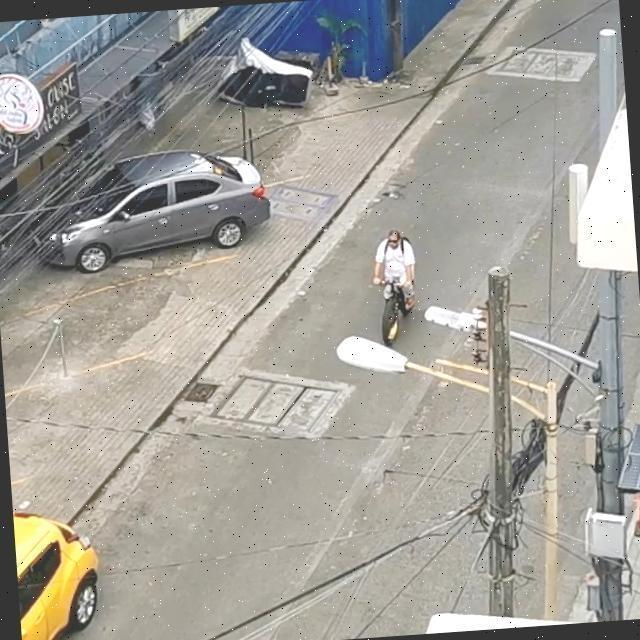Bike: (325, 204, 449, 356)
